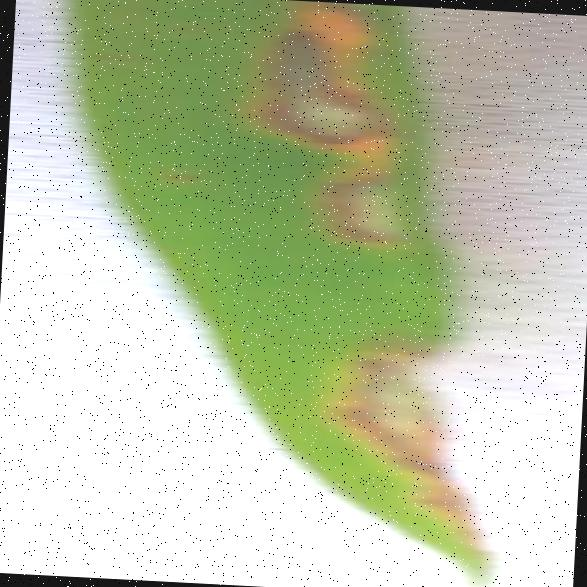Leaf_smut: (294, 331, 506, 522), (228, 6, 409, 158), (286, 144, 436, 252)
